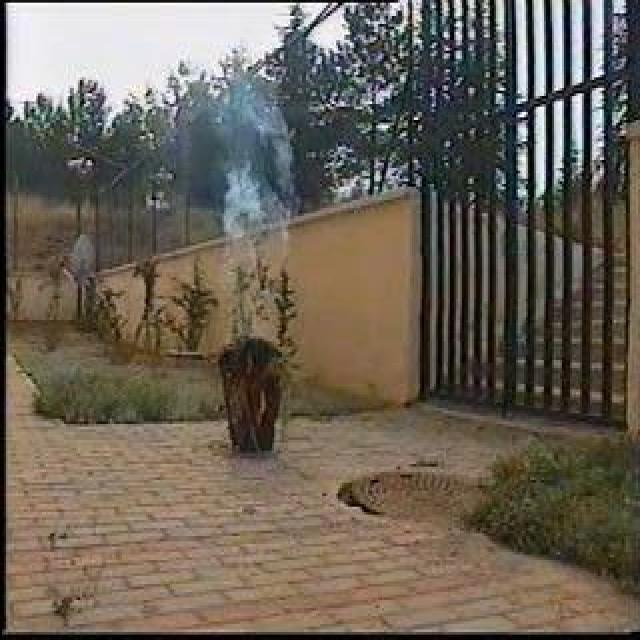smoke: (206, 95, 296, 241)
